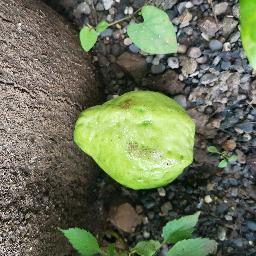Good_guava: (73, 82, 195, 198)
